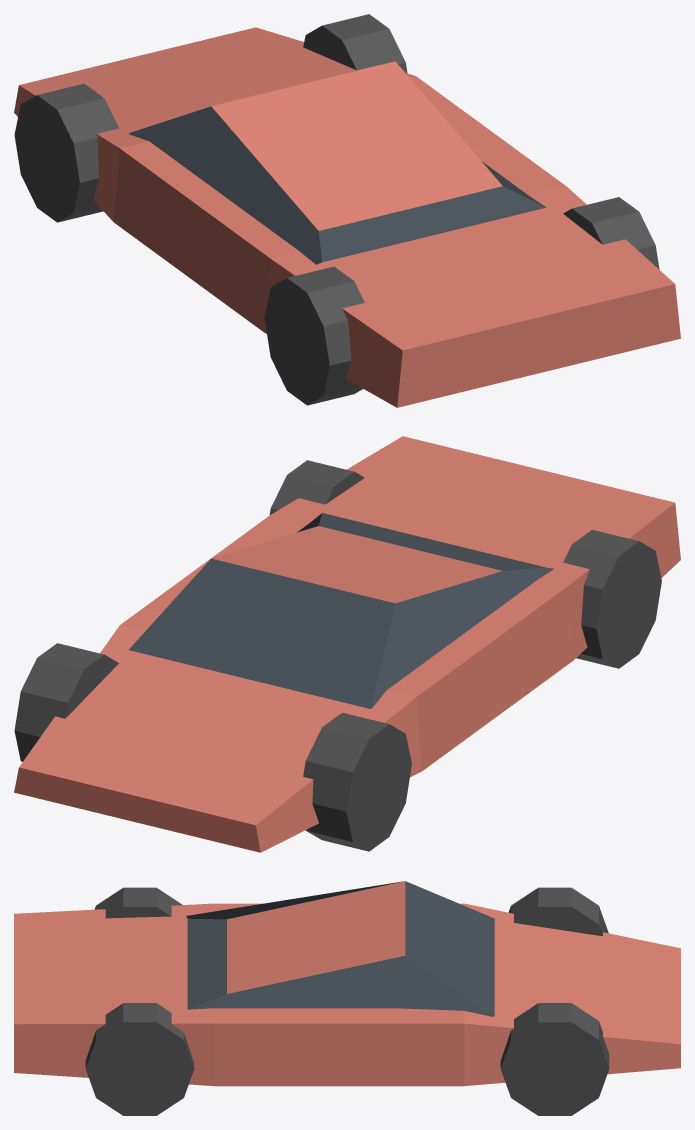
The model's file is roadster.glb.
3 views of the same model, one above another, from view 1: azimuth 30°, elevation 25°; view 2: azimuth 150°, elevation 25°; view 3: azimuth 270°, elevation 25° (orthographic). The views are drawn at different scales.
Parts seen in each view (by area): view 1: tesla_roadster_body, tesla_roadster_Wheel_RL, tesla_roadster_Wheel_FL, tesla_roadster_Wheel_FR, tesla_roadster_Wheel_RR; view 2: tesla_roadster_body, tesla_roadster_Wheel_FL, tesla_roadster_Wheel_RL, tesla_roadster_Wheel_FR, tesla_roadster_Wheel_RR; view 3: tesla_roadster_body, tesla_roadster_Wheel_FR, tesla_roadster_Wheel_RR, tesla_roadster_Wheel_FL, tesla_roadster_Wheel_RL.
Boxes of the visible parts, x1=… form: tesla_roadster_body: x1=14, y1=27, x2=680, y2=407; tesla_roadster_Wheel_RL: x1=264, y1=266, x2=364, y2=405; tesla_roadster_Wheel_FL: x1=14, y1=83, x2=118, y2=222; tesla_roadster_Wheel_FR: x1=303, y1=14, x2=407, y2=73; tesla_roadster_Wheel_RR: x1=563, y1=197, x2=659, y2=269; tesla_roadster_body: x1=14, y1=436, x2=680, y2=852; tesla_roadster_Wheel_FL: x1=303, y1=712, x2=411, y2=851; tesla_roadster_Wheel_RL: x1=563, y1=529, x2=661, y2=668; tesla_roadster_Wheel_FR: x1=14, y1=643, x2=118, y2=761; tesla_roadster_Wheel_RR: x1=269, y1=460, x2=364, y2=514; tesla_roadster_body: x1=14, y1=881, x2=680, y2=1086; tesla_roadster_Wheel_FR: x1=500, y1=1003, x2=609, y2=1115; tesla_roadster_Wheel_RR: x1=85, y1=1003, x2=194, y2=1115; tesla_roadster_Wheel_FL: x1=508, y1=887, x2=608, y2=936; tesla_roadster_Wheel_RL: x1=94, y1=887, x2=182, y2=918.
Size of the model in its own units: 2.11 by 0.9524 by 4.42.
